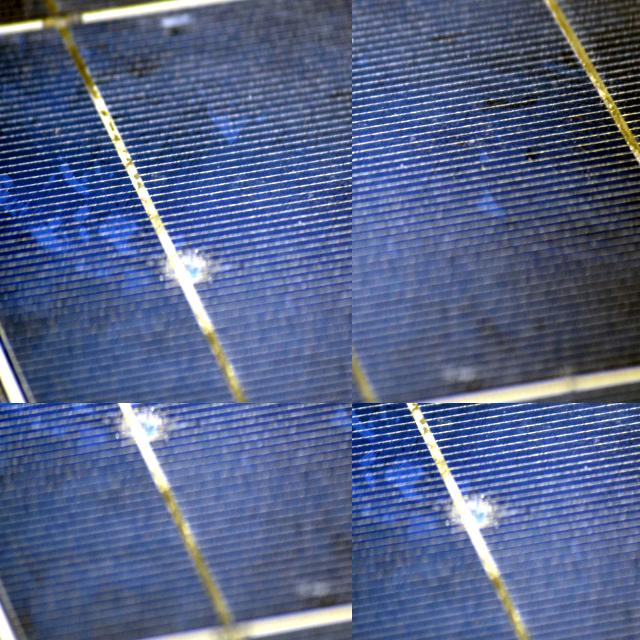bird: (66, 403, 133, 447), (0, 403, 19, 442)
dust: (11, 126, 83, 220), (86, 127, 122, 210), (0, 142, 25, 203), (81, 236, 115, 278), (0, 224, 36, 261), (34, 60, 116, 74), (0, 60, 49, 82), (54, 5, 114, 19), (0, 217, 17, 246), (0, 15, 44, 24), (42, 246, 58, 270), (0, 21, 18, 27)
panel: (352, 2, 370, 23), (352, 6, 366, 18), (352, 0, 362, 14), (352, 5, 366, 15), (352, 0, 360, 15), (352, 0, 363, 10), (352, 0, 361, 12), (352, 0, 369, 6), (352, 0, 365, 7), (352, 0, 360, 6)
shadow: (425, 469, 544, 586)
